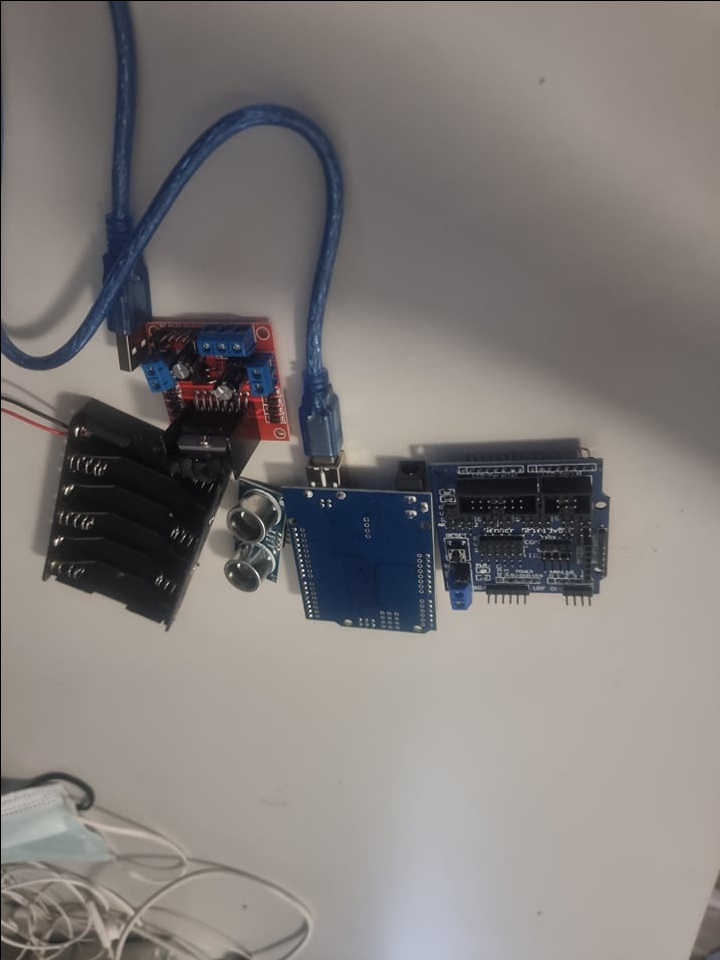5V EXPANSION: (432, 450, 615, 609)
BATTERY BOX: (60, 397, 209, 640)
MOTOR: (127, 307, 284, 474)
